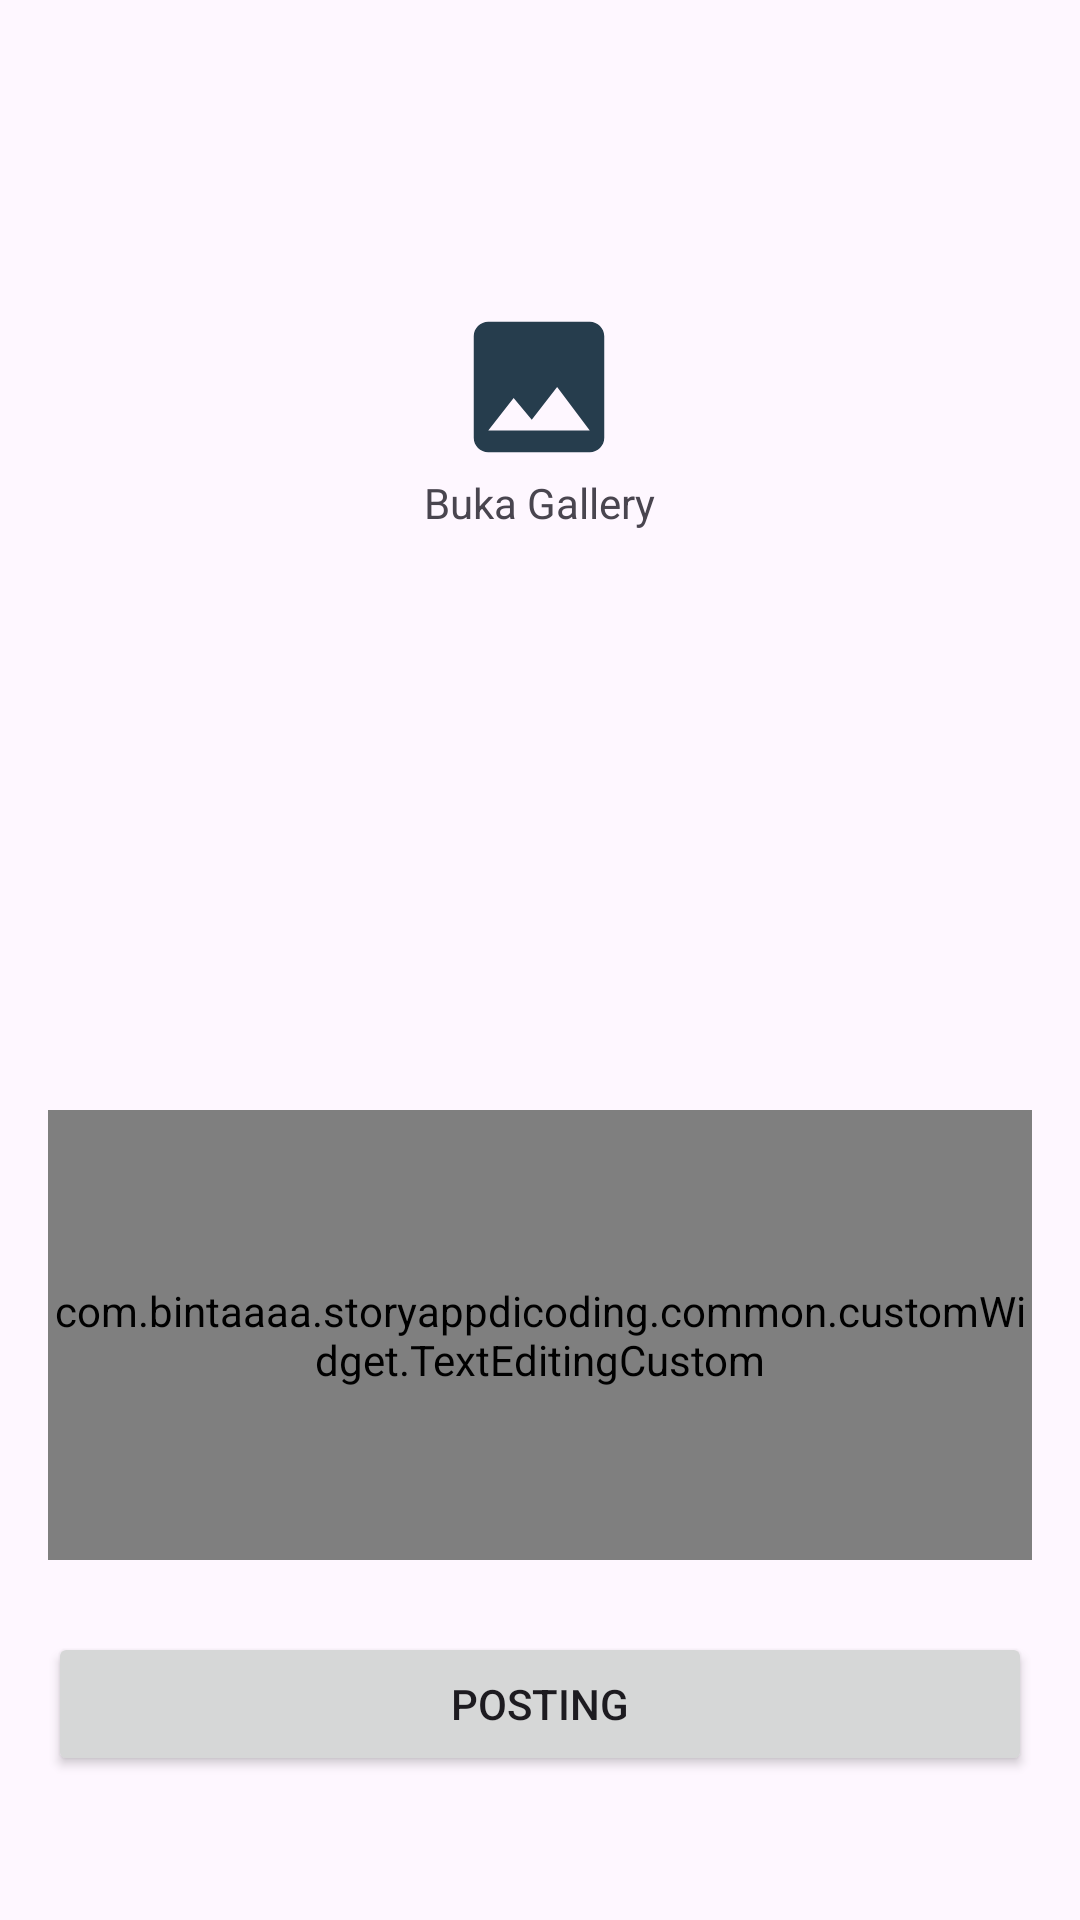

Screen size 1080*1920. Icon name, then its center in pixels as (x,y):
insert photo: (539,387)
